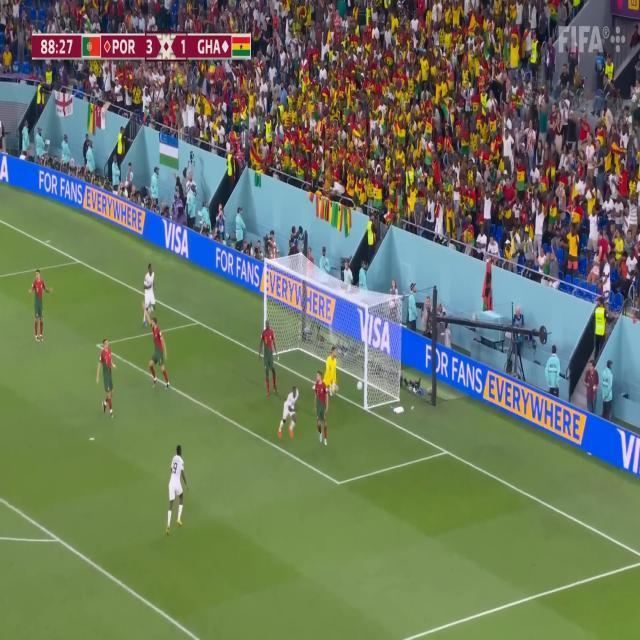football: (347, 382, 371, 394)
